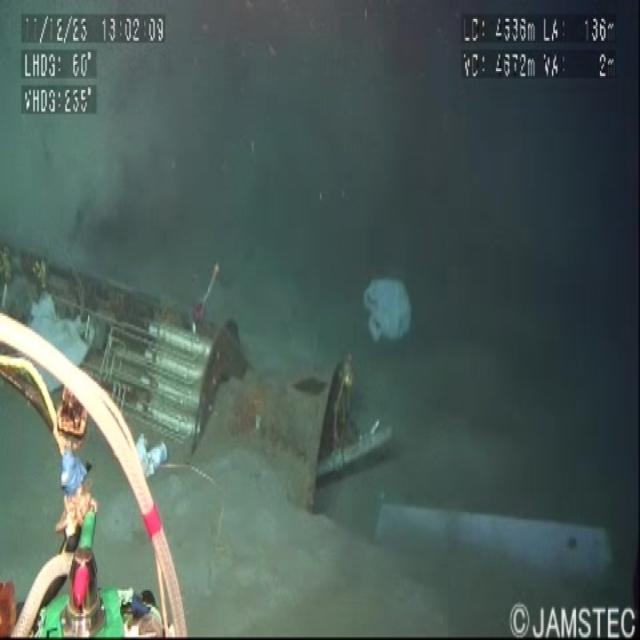Metal: (1, 211, 415, 516), (371, 486, 624, 590)
Plastic: (358, 260, 434, 356)
